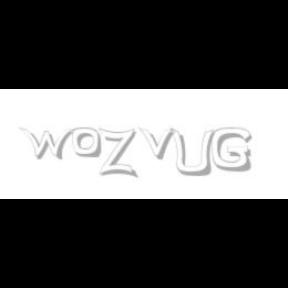G: (212, 128, 252, 172)
U: (170, 128, 214, 178)
Z: (98, 128, 136, 178)
o: (72, 128, 100, 158)
v: (138, 128, 178, 160)
w: (20, 128, 78, 160)
